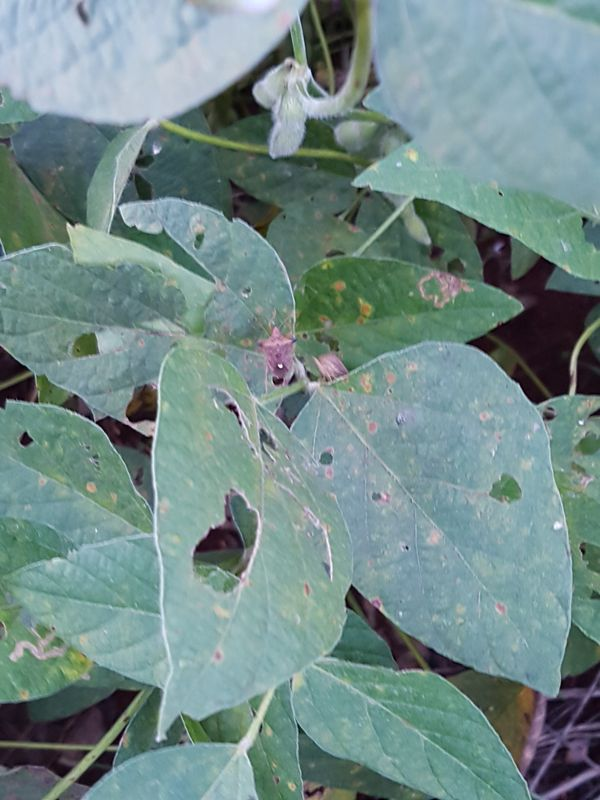Euschistus_heros_adulto: (249, 321, 304, 391)
